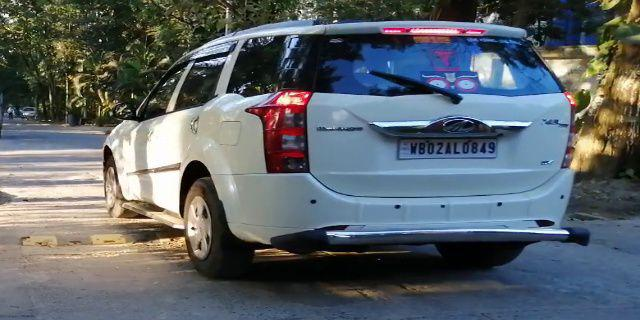Car: (99, 16, 588, 279)
